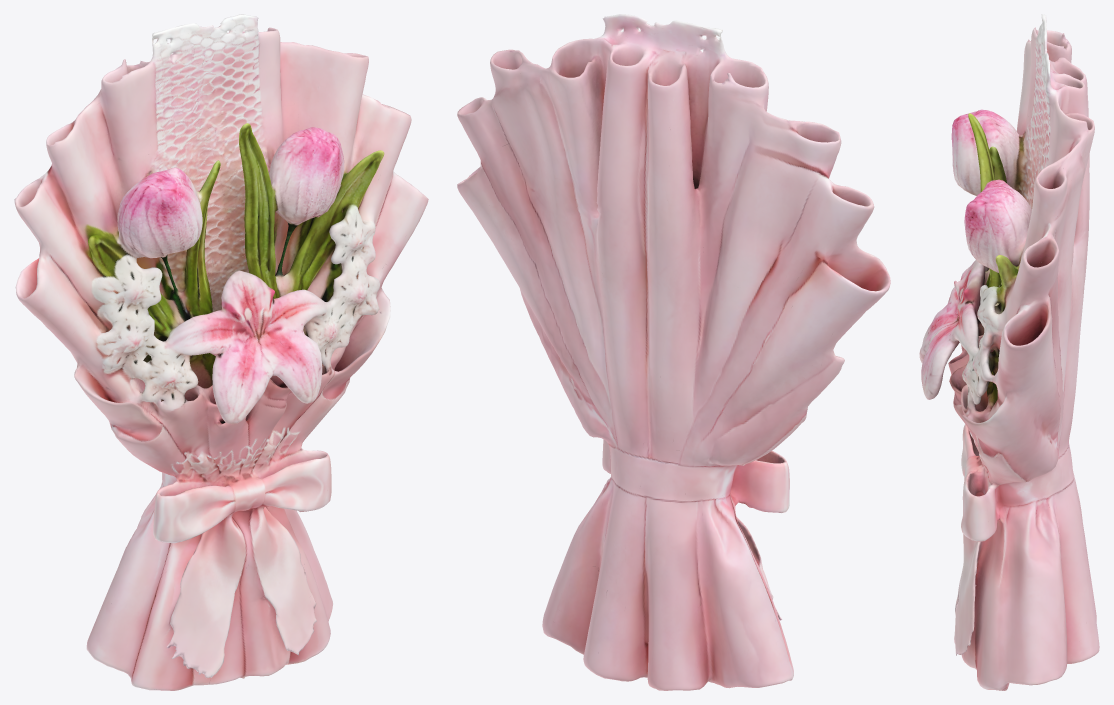
The model's file is bouquet-hero-shaded.glb.
The picture shows the model from 3 angles, left to right: view 1: azimuth 30°, elevation 25°; view 2: azimuth 150°, elevation 25°; view 3: azimuth 270°, elevation 25°; orthographic projection. The views are drawn at different scales.
Parts seen in each view (by area): view 1: model; view 2: model; view 3: model.
Part boxes in pixels (x1=…): model: x1=14, y1=14, x2=428, y2=690; model: x1=457, y1=14, x2=890, y2=690; model: x1=919, y1=14, x2=1099, y2=690.
Bounding box in the file's own units: 1.26 × 1.89 × 0.5022.
1 material, 1 textured.
